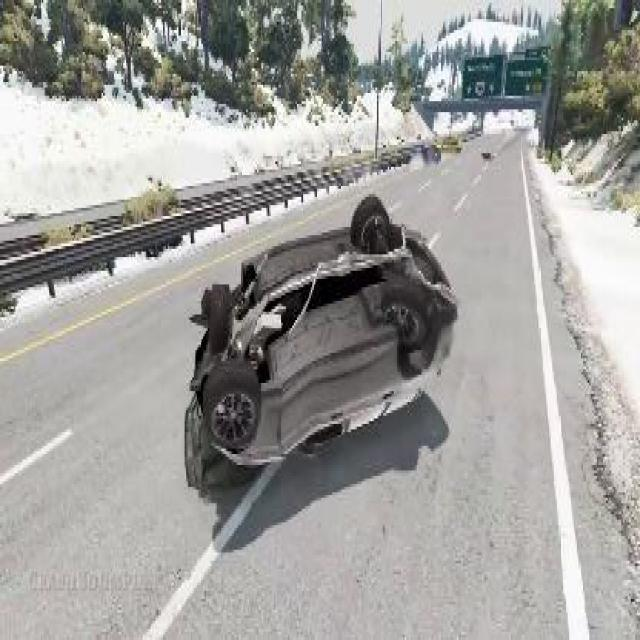accident: (177, 188, 460, 498)
